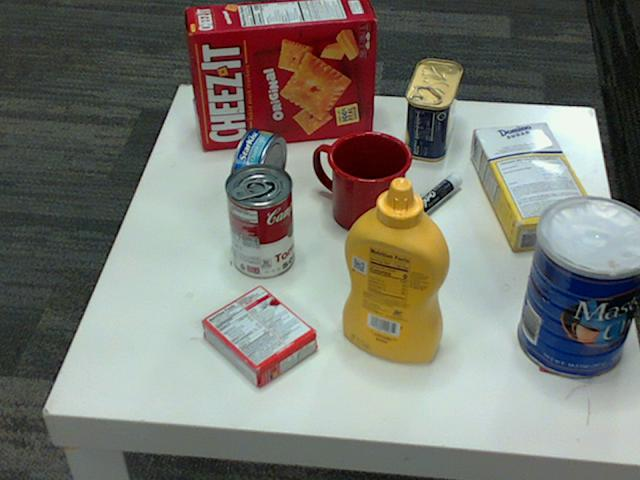cracker_box: (186, 0, 373, 148)
gelatin_box: (198, 285, 313, 389)
large_marker: (391, 176, 462, 235)
master_chef_can: (519, 197, 639, 379)
mug: (313, 129, 411, 232)
mustard_bottle: (342, 179, 450, 363)
potted_meat_can: (403, 60, 460, 162)
sugar_box: (470, 123, 599, 251)
tomato_soup_can: (225, 164, 294, 279)
tuna_fish_can: (228, 128, 285, 206)
